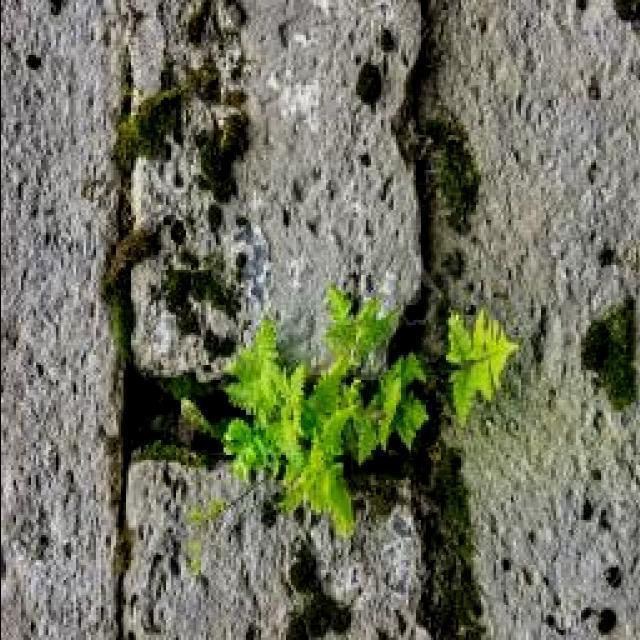crack: (382, 0, 496, 316), (99, 221, 169, 365)
vegetation: (153, 281, 519, 541)
